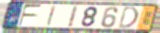6: (100, 6, 119, 29)
8: (80, 6, 98, 28)
D: (117, 6, 140, 30)
F: (18, 4, 43, 27)
I: (46, 5, 58, 27), (68, 5, 79, 28)
